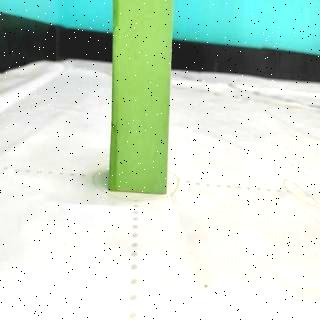greenbox: (109, 0, 173, 197)
